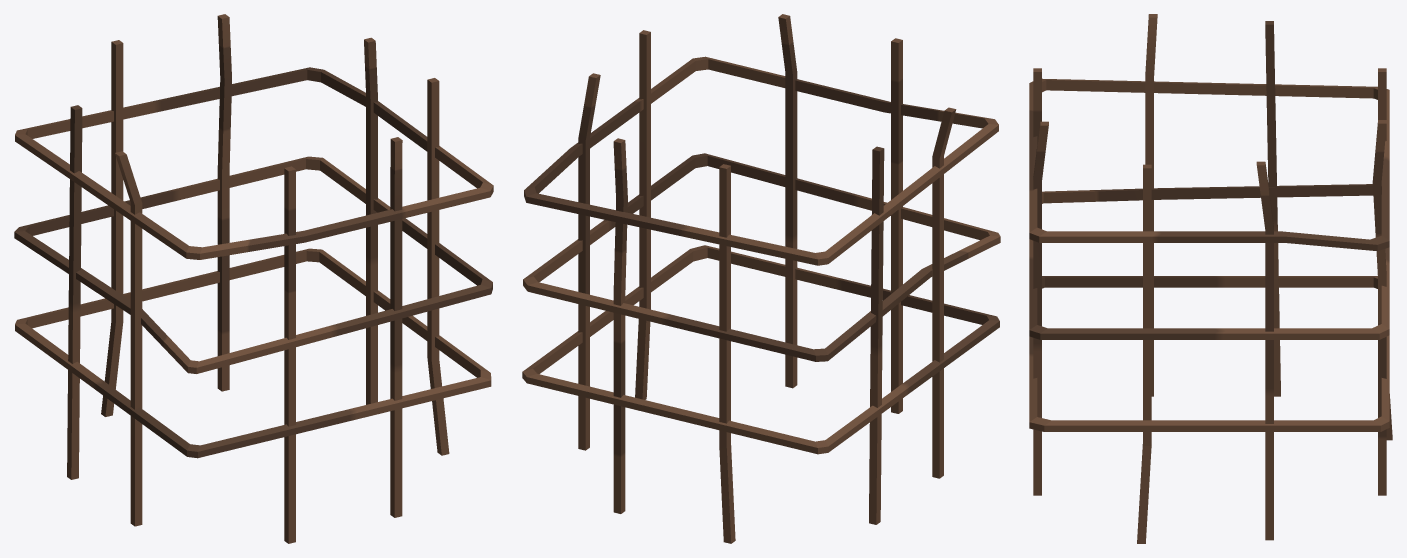
Rendered from SM_Bld_ConcreteRebar_Pillar_02.fbx.
3 renders of one model, left to right at view 1: azimuth 30°, elevation 25°; view 2: azimuth 150°, elevation 25°; view 3: azimuth 270°, elevation 25°, orthographic.
Parts seen in each view (by area): view 1: SM_Bld_ConcreteRebar_Pillar_02; view 2: SM_Bld_ConcreteRebar_Pillar_02; view 3: SM_Bld_ConcreteRebar_Pillar_02.
Part boxes in pixels (x1,y1,x2,y2): SM_Bld_ConcreteRebar_Pillar_02: (14,14,493,543); SM_Bld_ConcreteRebar_Pillar_02: (522,14,1000,543); SM_Bld_ConcreteRebar_Pillar_02: (1029,14,1392,543).
Bounding box in the file's own units: 106 × 116 × 103.
